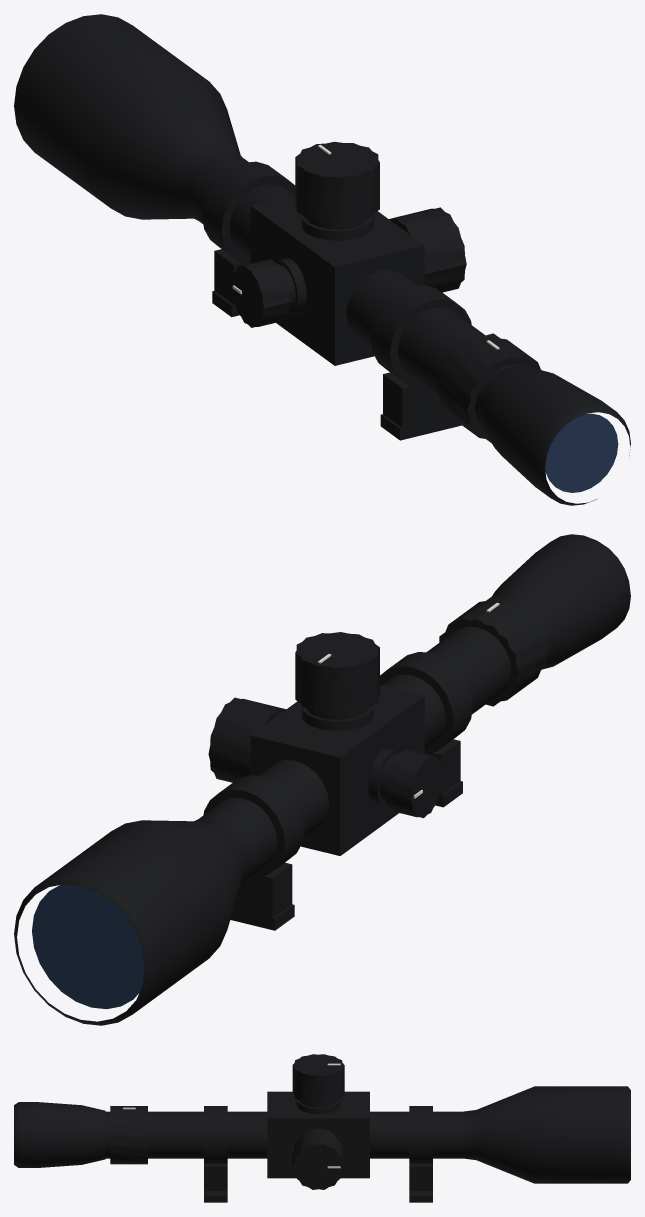
Rendered from scope.glb.
3 renders of one model, top to bottom at view 1: azimuth 30°, elevation 25°; view 2: azimuth 150°, elevation 25°; view 3: azimuth 270°, elevation 25°, orthographic. The views are drawn at different scales.
Parts seen in each view (by area): view 1: objective_black, body, rings, ocular_black, elevation-turret_black, magnification-ring_black, ocular_glass, windage-turret_black, parallax-turret_black; view 2: body, objective_black, rings, objective_glass, ocular_black, elevation-turret_black, magnification-ring_black, windage-turret_black, parallax-turret_black; view 3: body, objective_black, ocular_black, rings, windage-turret_black, elevation-turret_black, magnification-ring_black.
Part boxes in pixels (<box>): objective_black: <box>14,14,241,220</box>; body: <box>184,151,528,427</box>; rings: <box>202,161,471,440</box>; ocular_black: <box>477,365,630,505</box>; elevation-turret_black: <box>295,141,379,229</box>; magnification-ring_black: <box>436,333,540,442</box>; ocular_glass: <box>545,413,618,492</box>; windage-turret_black: <box>389,207,466,292</box>; parallax-turret_black: <box>231,259,295,327</box>; body: <box>199,609,543,880</box>; objective_black: <box>14,816,251,1025</box>; rings: <box>203,652,472,930</box>; objective_glass: <box>32,884,144,1009</box>; ocular_black: <box>492,534,630,669</box>; elevation-turret_black: <box>295,632,379,719</box>; magnification-ring_black: <box>439,596,549,706</box>; windage-turret_black: <box>208,697,285,782</box>; parallax-turret_black: <box>379,749,443,818</box>; body: <box>105,1091,464,1178</box>; objective_black: <box>463,1086,630,1183</box>; ocular_black: <box>14,1102,105,1167</box>; rings: <box>204,1106,432,1202</box>; windage-turret_black: <box>292,1130,344,1189</box>; elevation-turret_black: <box>292,1054,344,1107</box>; magnification-ring_black: <box>110,1106,147,1164</box>.
Size of the model in its own units: 0.0892 by 0.0876 by 0.391.
